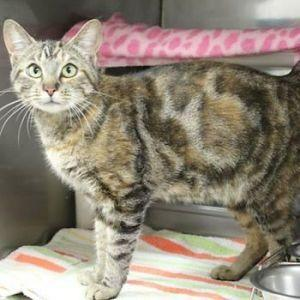bengal: (1, 14, 111, 125)
